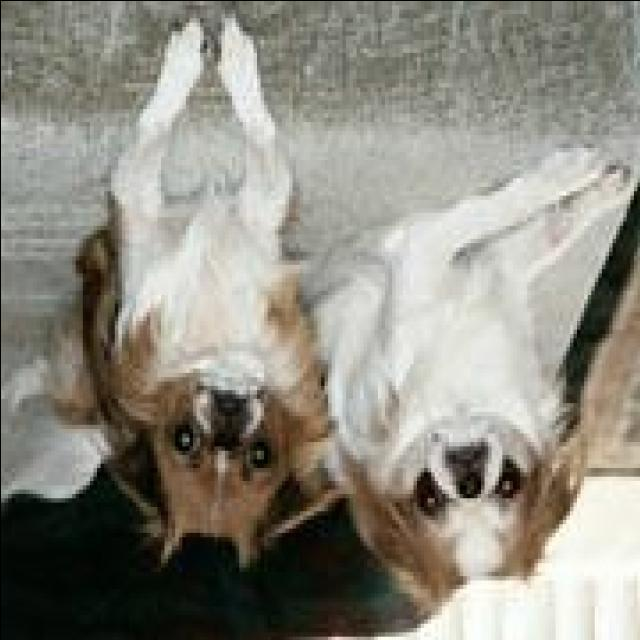husky: (64, 4, 331, 575), (313, 142, 640, 606)
